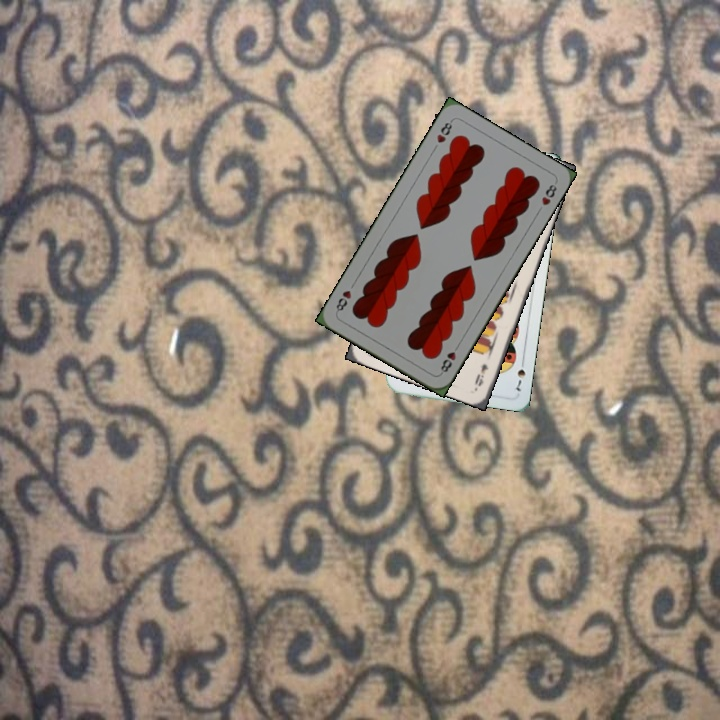E9: (470, 360, 491, 389)
H8: (436, 340, 462, 377), (432, 116, 455, 146)
S7: (512, 355, 528, 394)
